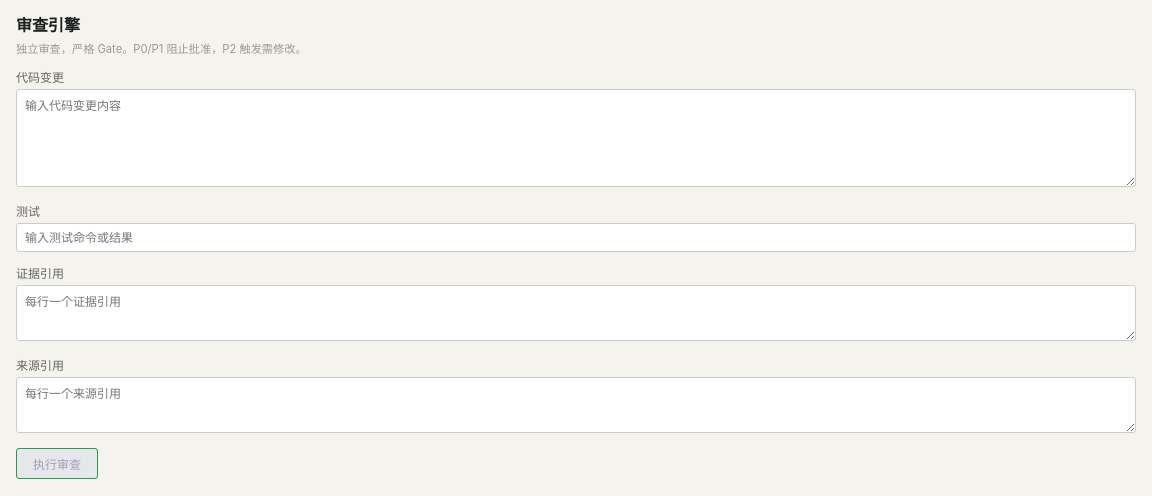
Test: ReviewerPanel › reviews clean code and shows approved
Type "clean code" into the text box with placeholder "输入代码变更内容".
click(576, 138); type("clean code")  # box top-left (16, 89), bottom-right (1136, 187)
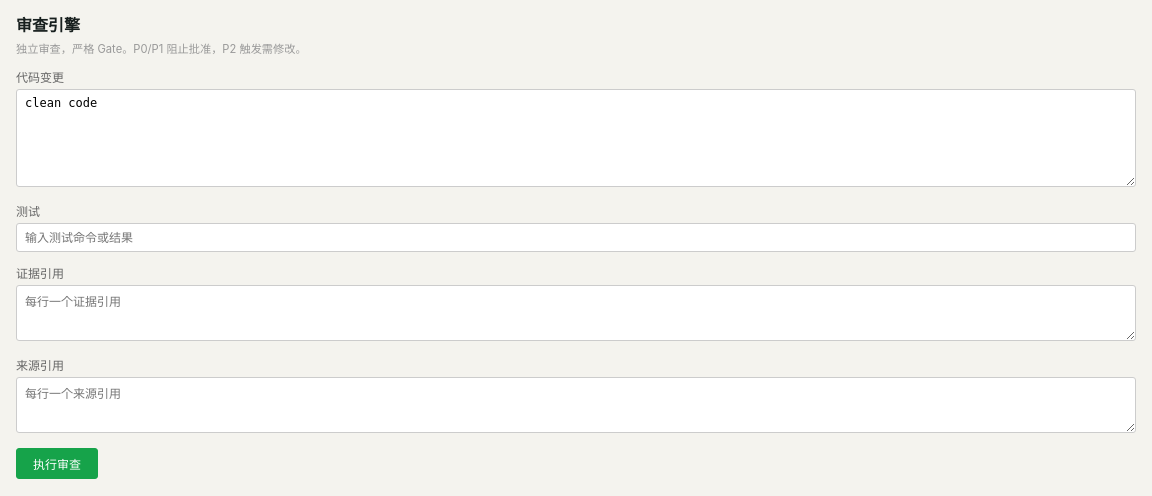
Click the button "执行审查".
click(57, 464)  # box top-left (16, 448), bottom-right (98, 479)
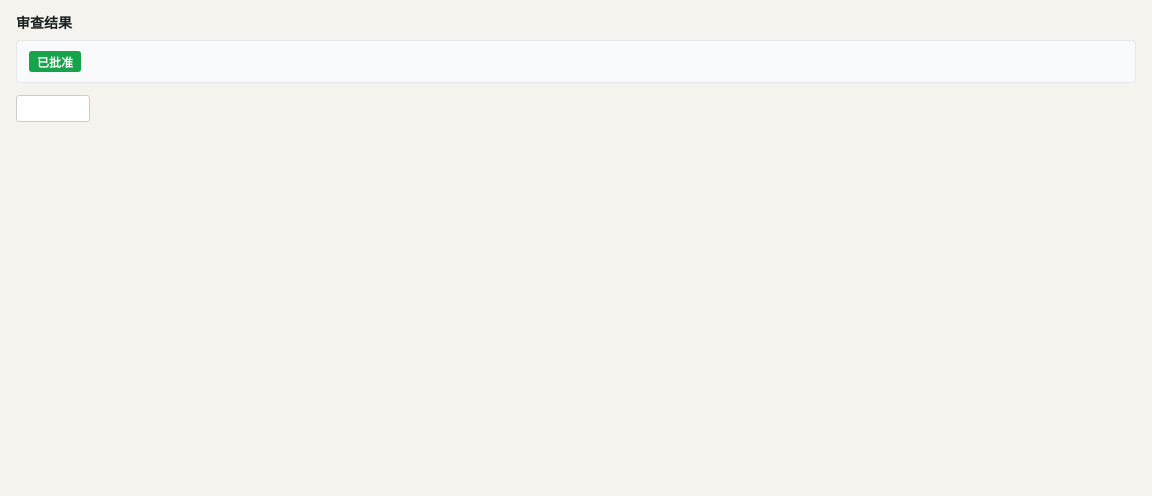
expect the heading "审查结果" is shown: met, box top-left (16, 14), bottom-right (72, 31)
expect the text "已批准" is shown: met, box top-left (29, 51), bottom-right (81, 72)
